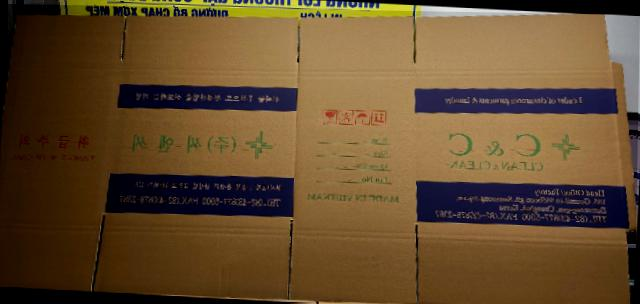box: (0, 15, 636, 304)
